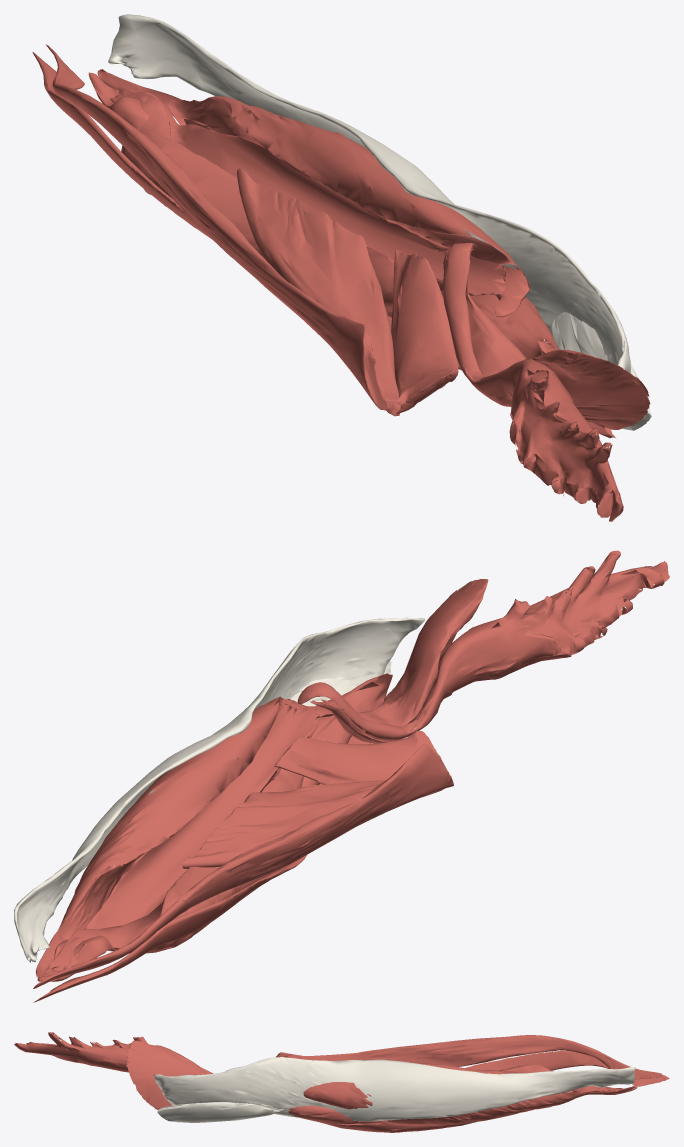
File: thighf.glb
3 views of the same model, one above another, from view 1: azimuth 30°, elevation 25°; view 2: azimuth 150°, elevation 25°; view 3: azimuth 270°, elevation 25° (orthographic). The views are drawn at different scales.
Visible parts, largest first — view 1: left iliotibial tract, left vastus lateralis, left psoas major, left adductor longus, left gracilis, left vastus intermedius, left iliacus, left pectineus, left vastus medialis, left rectus femoris, left sartorius, left tensor fasciae latae; view 2: left psoas major, left iliotibial tract, left vastus lateralis, left gracilis, left vastus intermedius, left adductor longus, left iliacus, left pectineus, left vastus medialis, left sartorius, left rectus femoris, left tensor fasciae latae; view 3: left iliotibial tract, left gracilis, left vastus lateralis, left psoas major, left iliacus, left tensor fasciae latae, left rectus femoris, left sartorius, left vastus medialis.
Part boxes in pixels (left/top/right/bottom): left iliotibial tract: left=108, top=14, right=630, bottom=373; left vastus lateralis: left=97, top=69, right=529, bottom=317; left psoas major: left=443, top=243, right=623, bottom=521; left adductor longus: left=237, top=168, right=401, bottom=416; left gracilis: left=46, top=44, right=390, bottom=410; left vastus intermedius: left=109, top=91, right=505, bottom=297; left iliacus: left=443, top=244, right=650, bottom=429; left pectineus: left=391, top=249, right=458, bottom=414; left vastus medialis: left=112, top=89, right=443, bottom=308; left rectus femoris: left=88, top=72, right=558, bottom=358; left sartorius: left=32, top=52, right=615, bottom=437; left tensor fasciae latae: left=549, top=312, right=651, bottom=430; left psoas major: left=297, top=550, right=669, bottom=740; left iliotibial tract: left=14, top=617, right=424, bottom=962; left vastus lateralis: left=35, top=696, right=333, bottom=977; left gracilis: left=33, top=743, right=453, bottom=988; left vastus intermedius: left=52, top=703, right=319, bottom=971; left adductor longus: left=182, top=780, right=444, bottom=868; left iliacus: left=309, top=579, right=488, bottom=743; left pectineus: left=274, top=731, right=438, bottom=784; left vastus medialis: left=48, top=736, right=310, bottom=968; left sartorius: left=33, top=696, right=386, bottom=1002; left rectus femoris: left=37, top=673, right=392, bottom=981; left tensor fasciae latae: left=290, top=661, right=391, bottom=706; left iliotibial tract: left=154, top=1057, right=635, bottom=1121; left gracilis: left=276, top=1035, right=662, bottom=1079; left vastus lateralis: left=303, top=1062, right=634, bottom=1124; left psoas major: left=14, top=1032, right=300, bottom=1074; left iliacus: left=126, top=1040, right=206, bottom=1109; left tensor fasciae latae: left=157, top=1102, right=283, bottom=1122; left rectus femoris: left=288, top=1085, right=637, bottom=1132; left sartorius: left=465, top=1050, right=669, bottom=1086; left vastus medialis: left=498, top=1065, right=616, bottom=1091.
Bounding box in the file's own units: 154 × 110 × 825.
